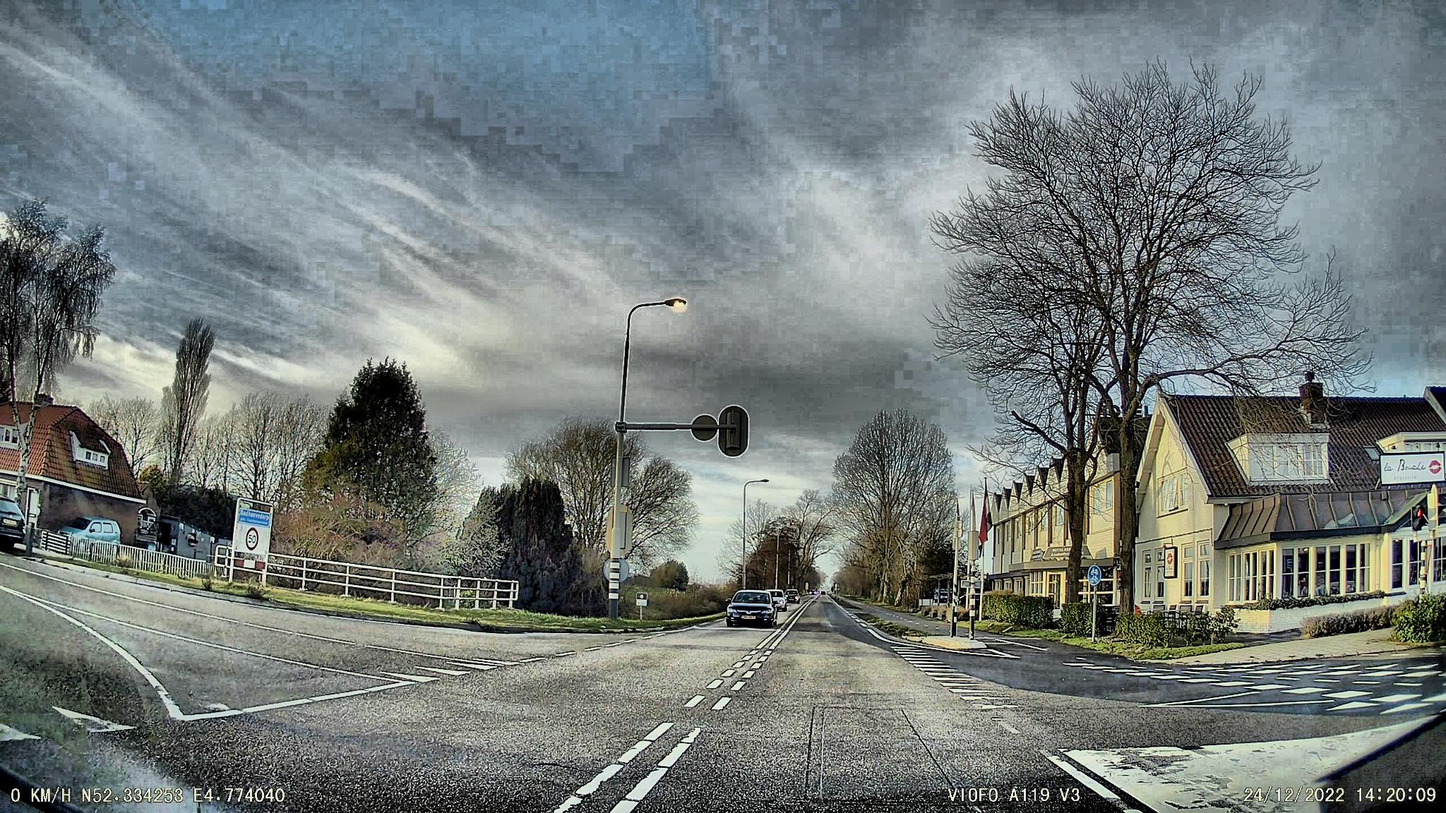Roads: (0, 554, 1446, 813)
